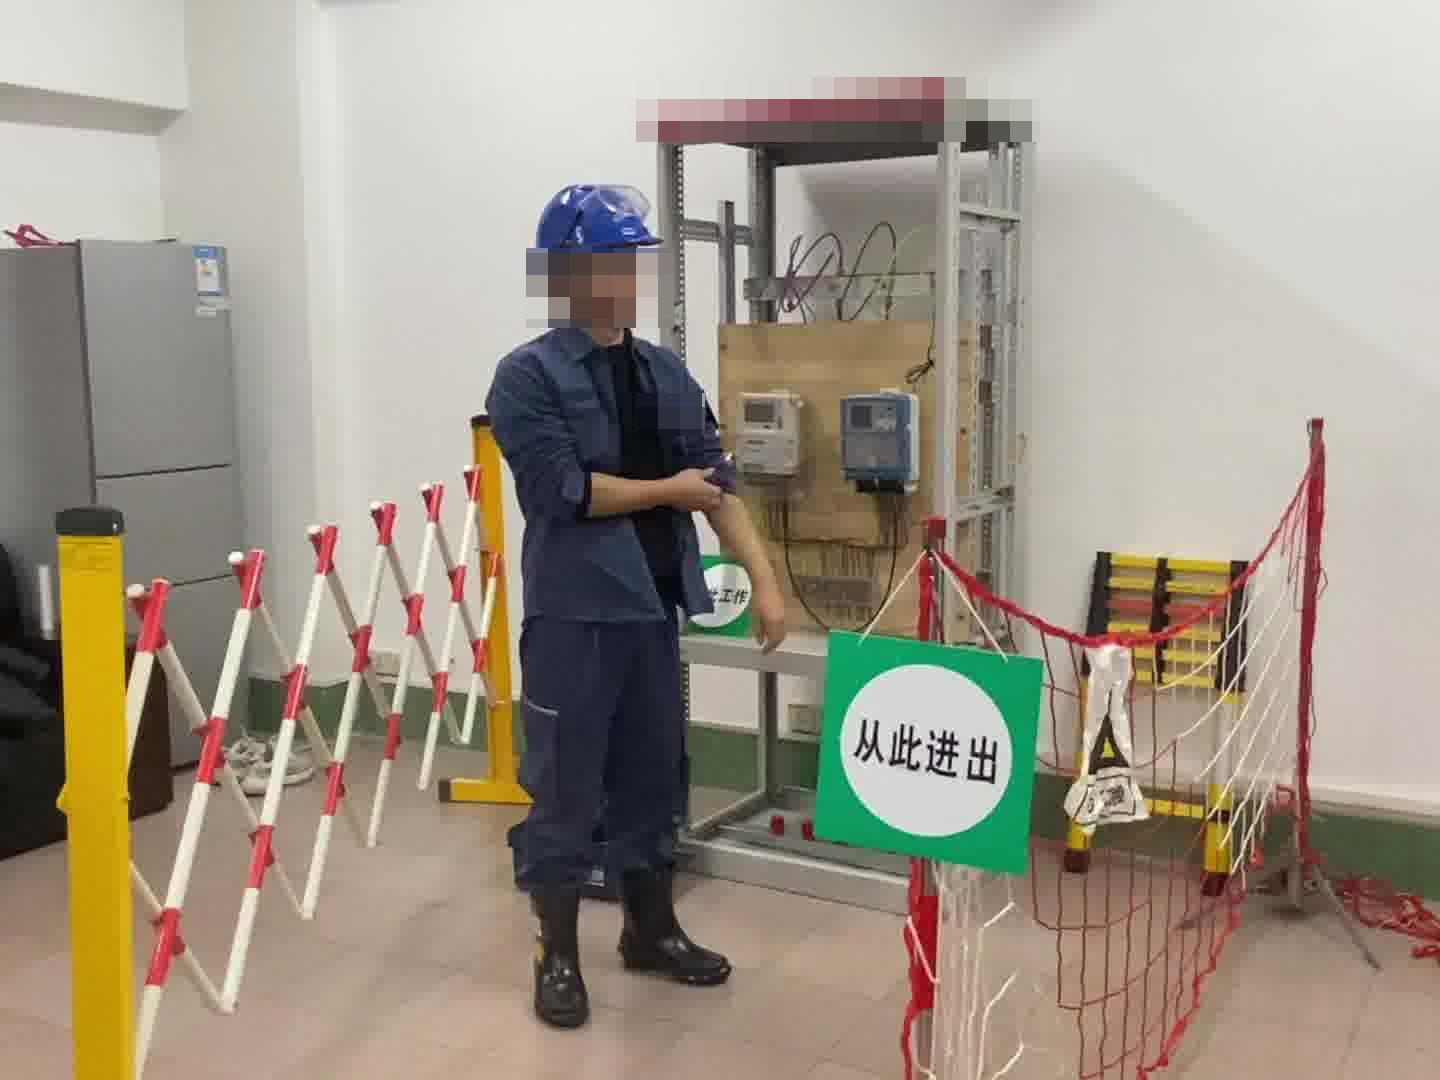downsuit: (507, 626, 692, 896)
halt: (528, 180, 665, 333)
hand: (746, 592, 790, 656), (670, 464, 724, 515)
inear: (544, 248, 594, 316)
intosign: (809, 631, 1048, 875)
person: (480, 173, 787, 1036)
shoe: (613, 869, 733, 990), (519, 881, 598, 1031)
upsuit: (488, 326, 722, 624)
worksign: (684, 552, 759, 639)
wrongsuit: (589, 346, 710, 624)
wrongtop: (712, 479, 787, 654), (552, 458, 722, 523)
